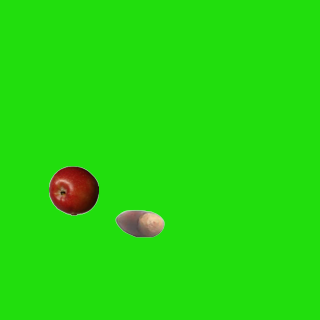Apple Braeburn: (48, 165, 98, 215)
Hazelnut: (114, 198, 164, 248)
